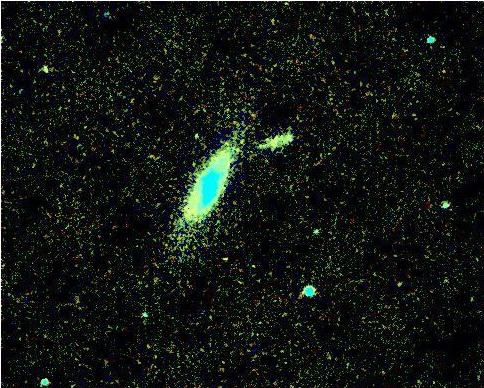star: (128, 298, 158, 328)
